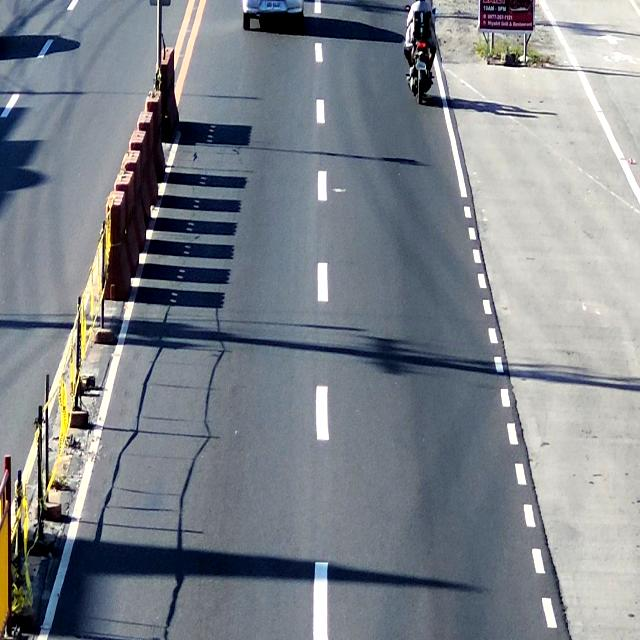Motorcycle: (404, 0, 439, 108)
